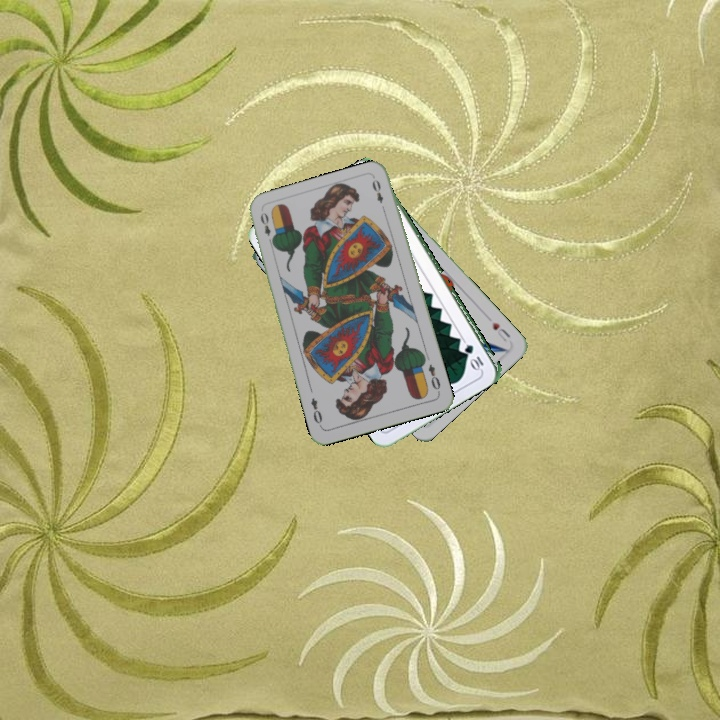EO: (256, 208, 277, 248), (424, 360, 443, 395)
G10: (462, 340, 486, 372)
HU: (488, 318, 513, 344)
